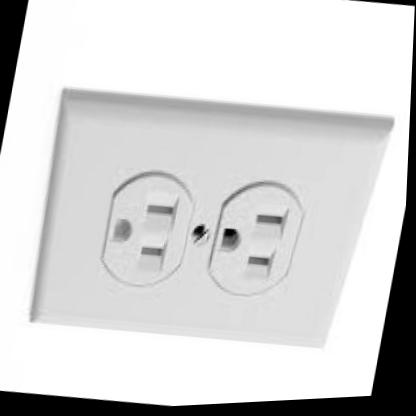OUTLET: (23, 69, 396, 368)
